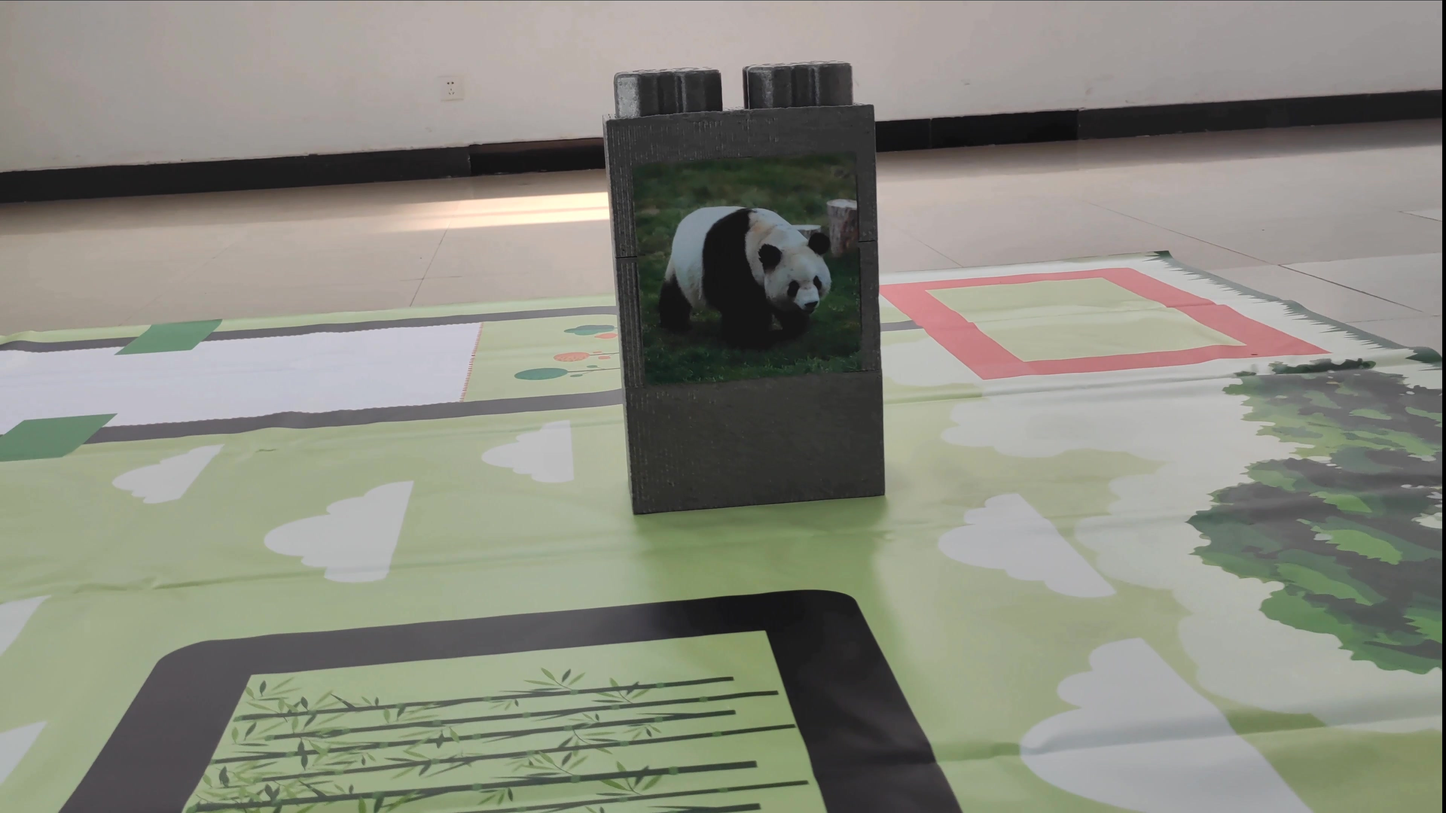panda: (626, 188, 857, 354)
